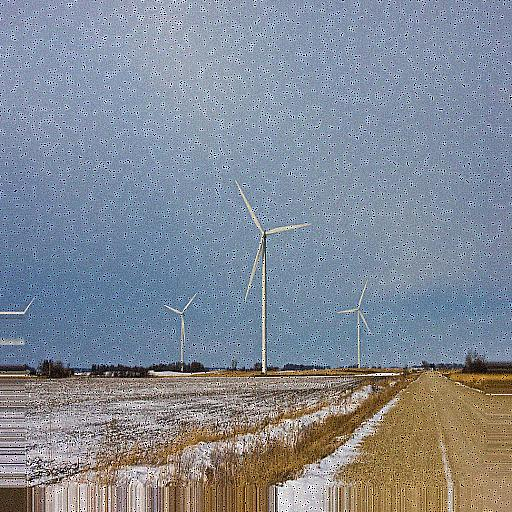wind turbine: (232, 180, 312, 369), (337, 277, 373, 364), (163, 290, 199, 364)
